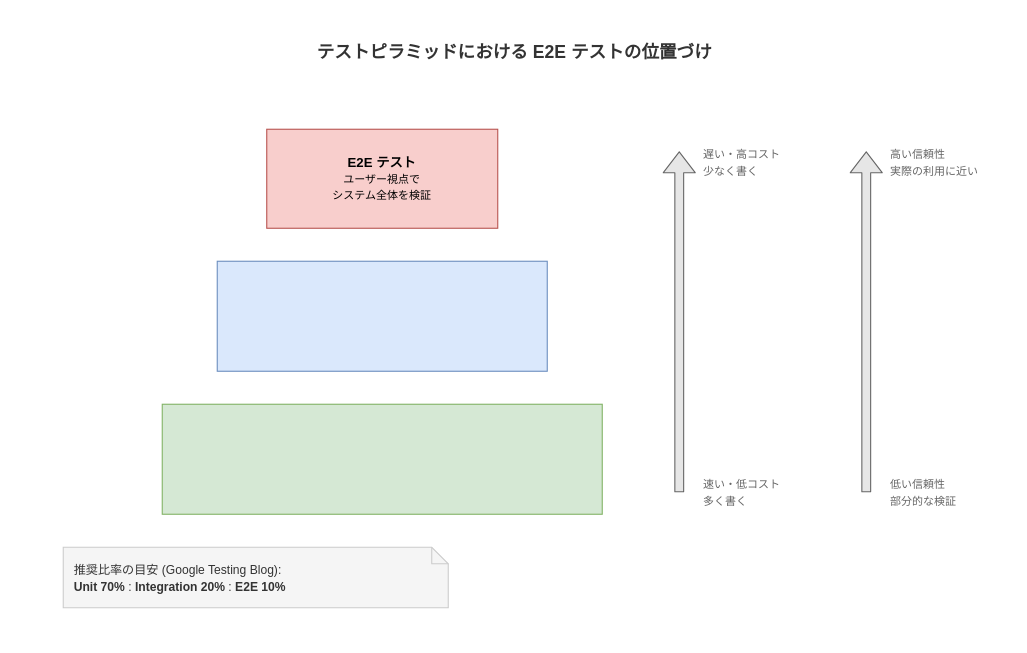
This 1027x653 diagram has some shape labels left out. Each missing label, with the box of its shape:
単体テスト (Unit Test) 関数・メソッド単位の検証 高速・安価・大量に実行: (161, 403, 602, 514)
結合テスト (Integration Test) 複数コンポーネント間の連携検証 DB / API / 外部サービスとの接続: (216, 260, 547, 371)
